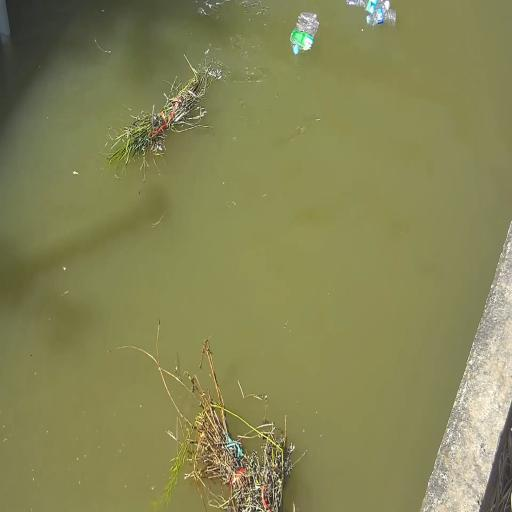plastic: (291, 12, 319, 54), (367, 8, 396, 26)
twig: (120, 320, 295, 512), (108, 56, 221, 166)
